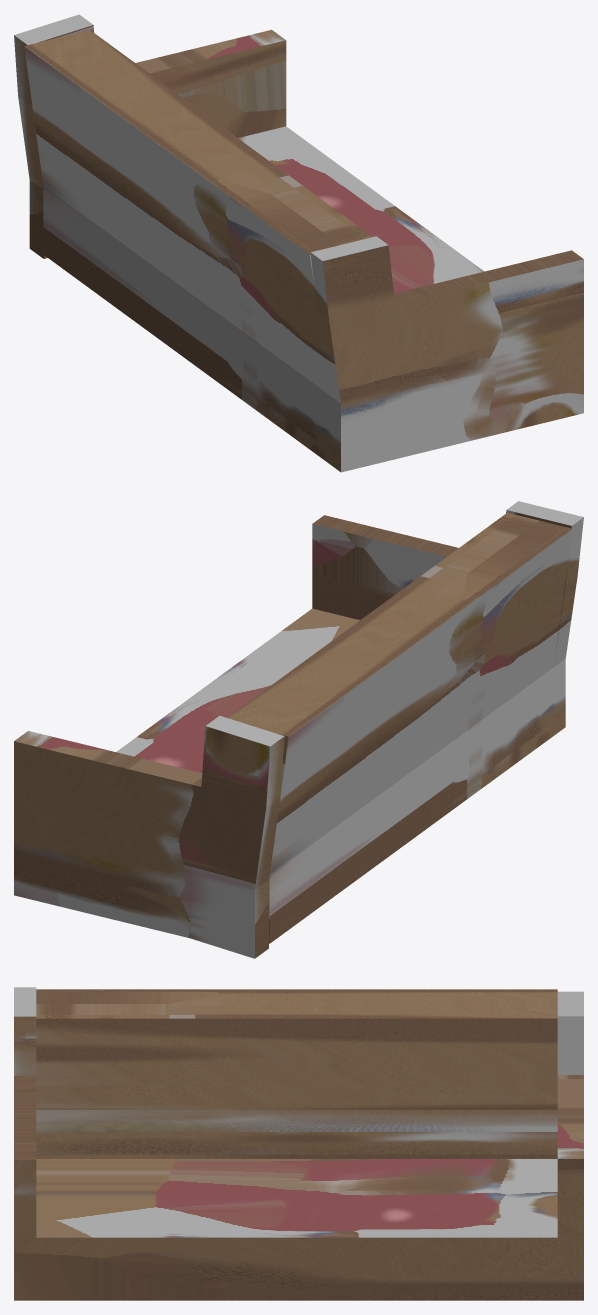
Rendered from sofa.obj.
3 renders of one model, top to bottom at view 1: azimuth 30°, elevation 25°; view 2: azimuth 150°, elevation 25°; view 3: azimuth 270°, elevation 25°, orthographic. The views are drawn at different scales.
Visible parts, largest first — view 1: Cube; view 2: Cube; view 3: Cube.
Part boxes in pixels (box(x1,y1,x2,y2)): Cube: box(14, 14, 583, 472); Cube: box(14, 501, 583, 958); Cube: box(14, 987, 583, 1300).
Bounding box in the file's own units: 2.16 × 1.75 × 4.45.
